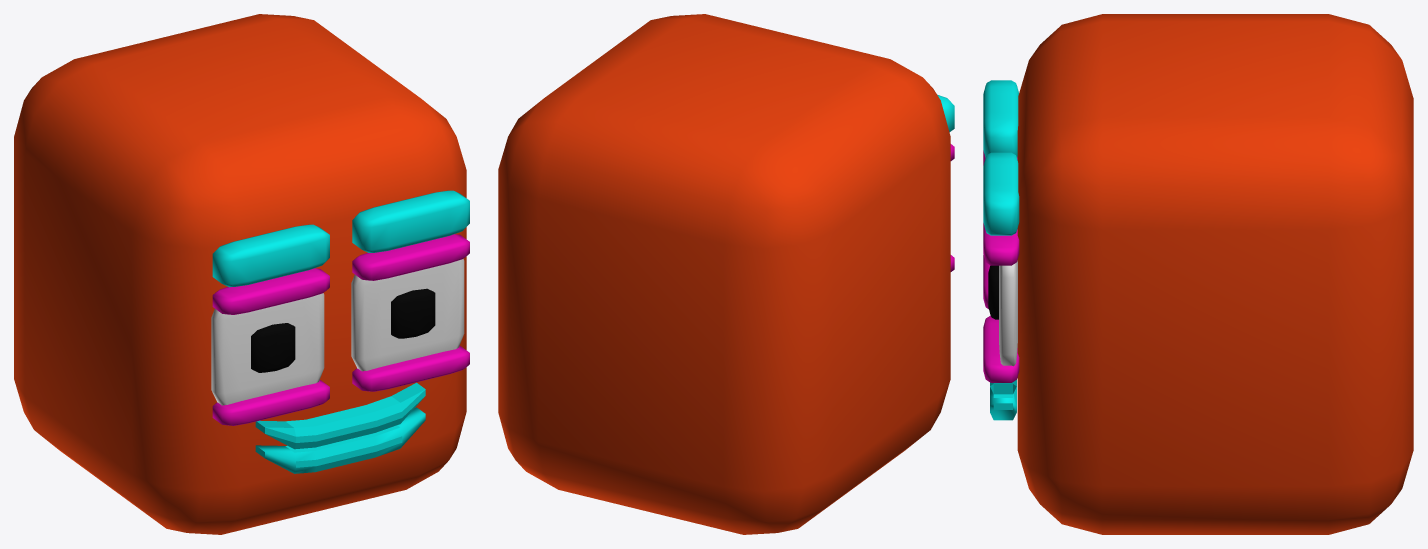
Rendered from robot2smile.glb.
The picture shows the model from 3 angles, left to right: view 1: azimuth 30°, elevation 25°; view 2: azimuth 150°, elevation 25°; view 3: azimuth 270°, elevation 25°; orthographic projection. The views are drawn at different scales.
Visible parts, largest first — view 1: Cube; view 2: Cube; view 3: Cube.
Part boxes in pixels (x1,y1,x2,y2): Cube: [14, 14, 469, 534]; Cube: [498, 14, 954, 534]; Cube: [983, 14, 1413, 534].
Bounding box in the file's own units: 0.7 × 0.8 × 0.7606.
